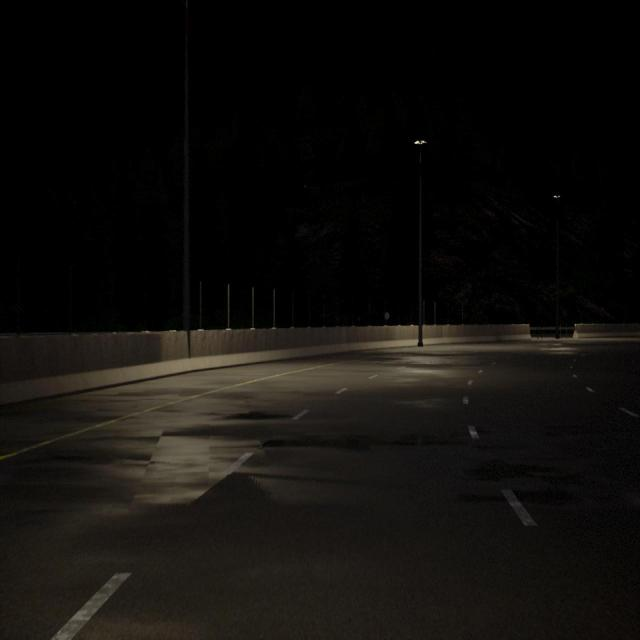Traffic_Signs: (384, 312, 390, 320)
